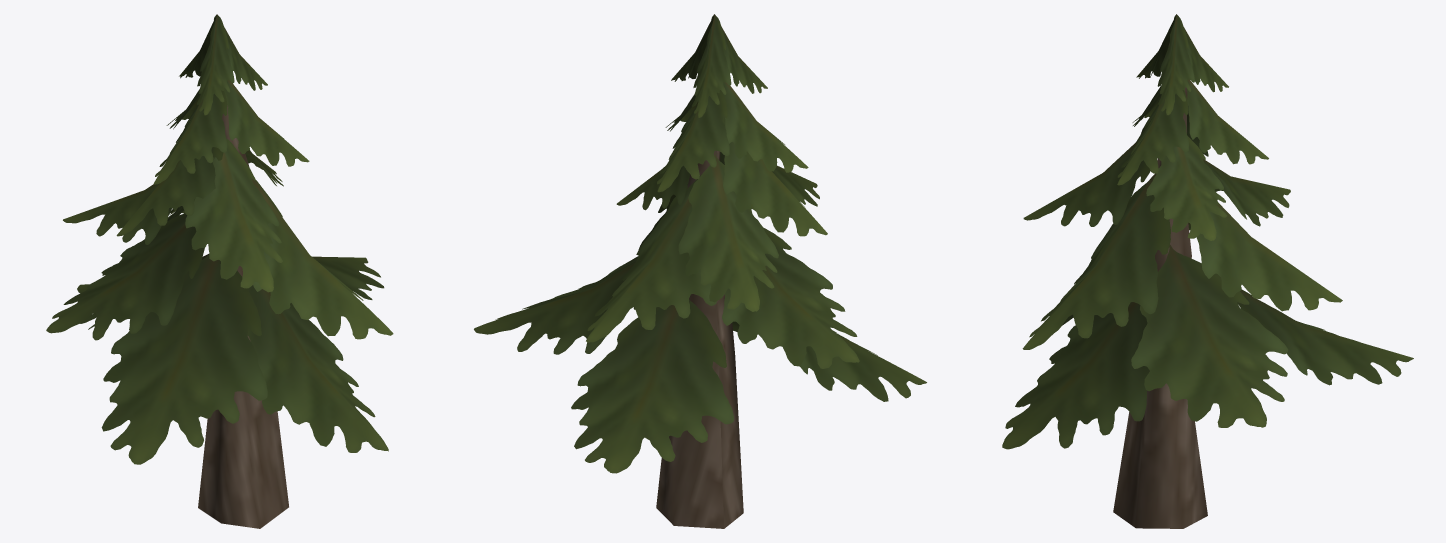
File: Tree_Pine_3.fbx
The picture shows the model from 3 angles, left to right: view 1: azimuth 30°, elevation 25°; view 2: azimuth 150°, elevation 25°; view 3: azimuth 270°, elevation 25°; orthographic projection. The views are drawn at different scales.
Parts seen in each view (by area): view 1: Tree_Pine_3; view 2: Tree_Pine_3; view 3: Tree_Pine_3.
Boxes of the visible parts, x1=… form: Tree_Pine_3: x1=46, y1=14, x2=393, y2=528; Tree_Pine_3: x1=474, y1=14, x2=926, y2=528; Tree_Pine_3: x1=1002, y1=14, x2=1413, y2=528.
Bounding box in the file's own units: 218 × 248 × 212.
Materials: 2 (2 with a texture image).
